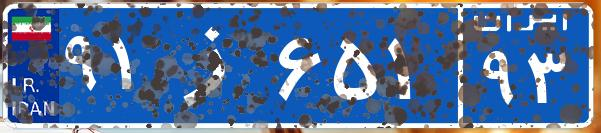1: (385, 28, 445, 110), (110, 28, 158, 105)
3: (525, 38, 570, 115)
5: (330, 28, 385, 110)
6: (273, 28, 330, 110)
9: (57, 26, 110, 107), (475, 38, 525, 113)
ز: (158, 15, 273, 115)
